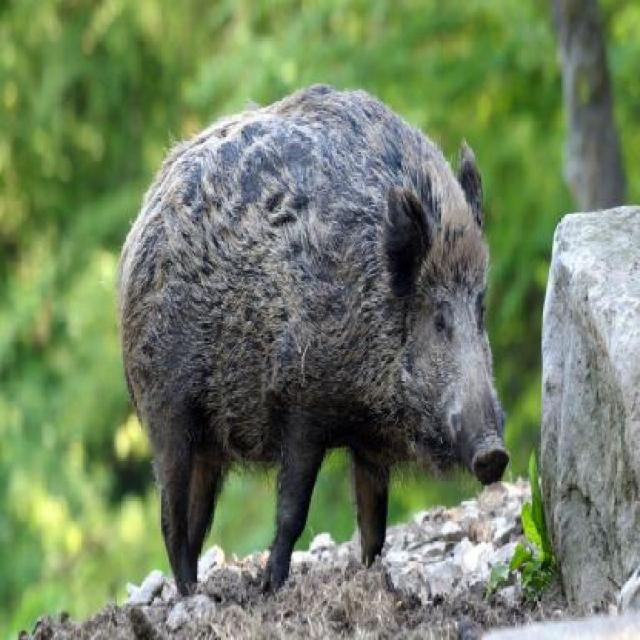wildboar: (112, 69, 516, 608)
